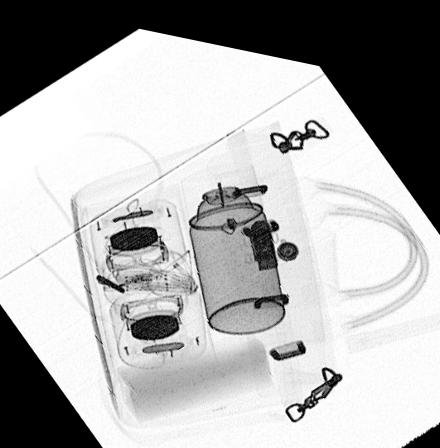Sprayer: (179, 142, 287, 326)
